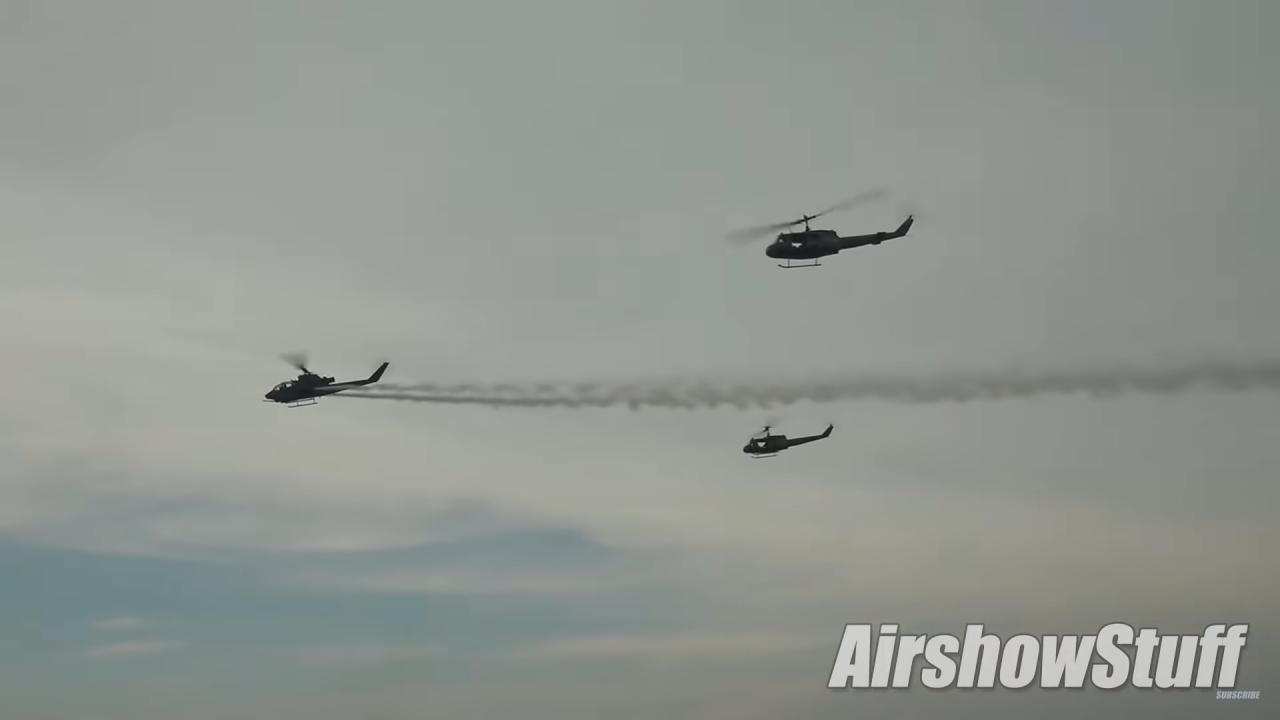Helicopter: (708, 167, 942, 296), (238, 330, 410, 430), (718, 395, 850, 479)
